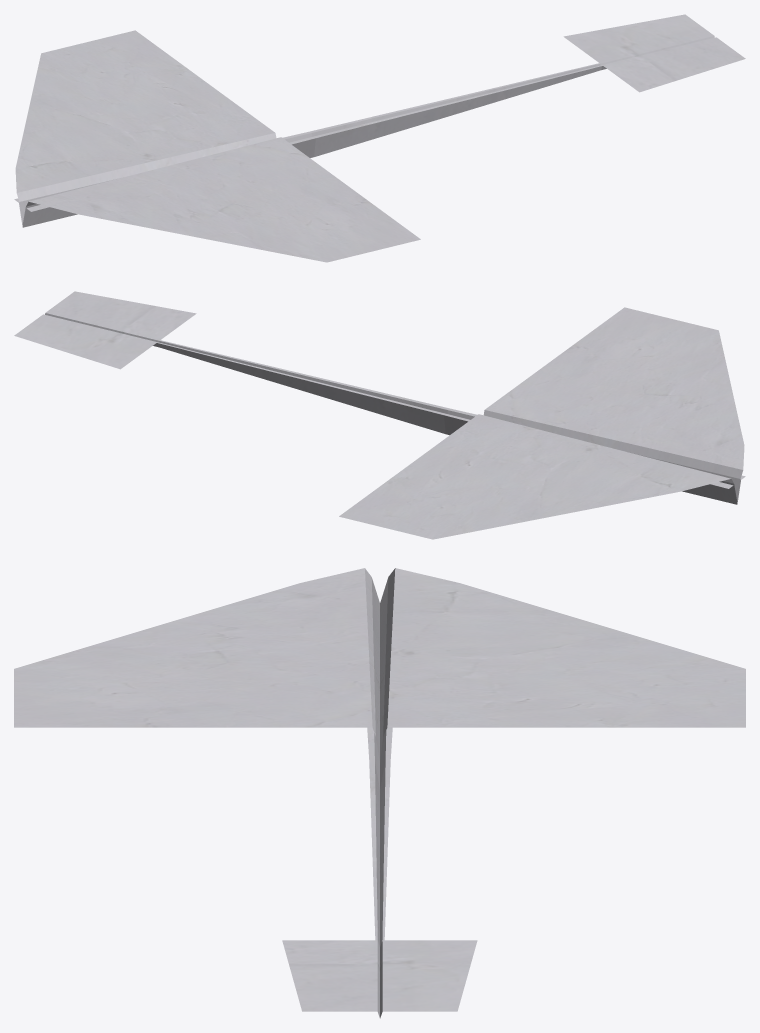
File: GliderMeshImport.glb
3 views of the same model, one above another, from view 1: azimuth 30°, elevation 25°; view 2: azimuth 150°, elevation 25°; view 3: azimuth 270°, elevation 25° (orthographic). The views are drawn at different scales.
Visible parts, largest first — view 1: Plane.005; view 2: Plane.005; view 3: Plane.005.
Boxes of the visible parts, x1,y1,x2,y2 form: Plane.005: (14,14,745,262); Plane.005: (14,291,745,539); Plane.005: (14,568,745,1018).
Bounding box in the file's own units: 2 × 0.0854 × 1.43.
1 material, 1 textured.
